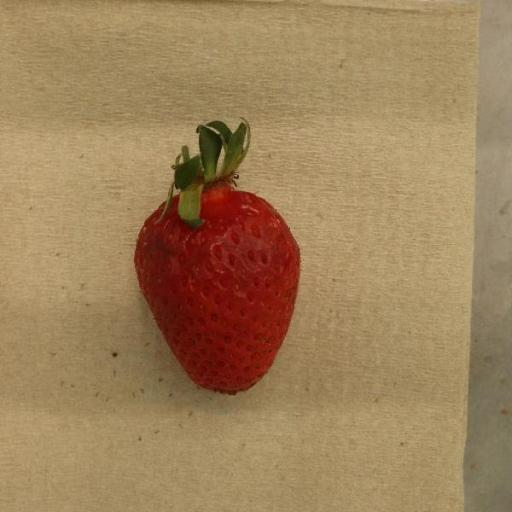Strawberry: (134, 119, 301, 396)
